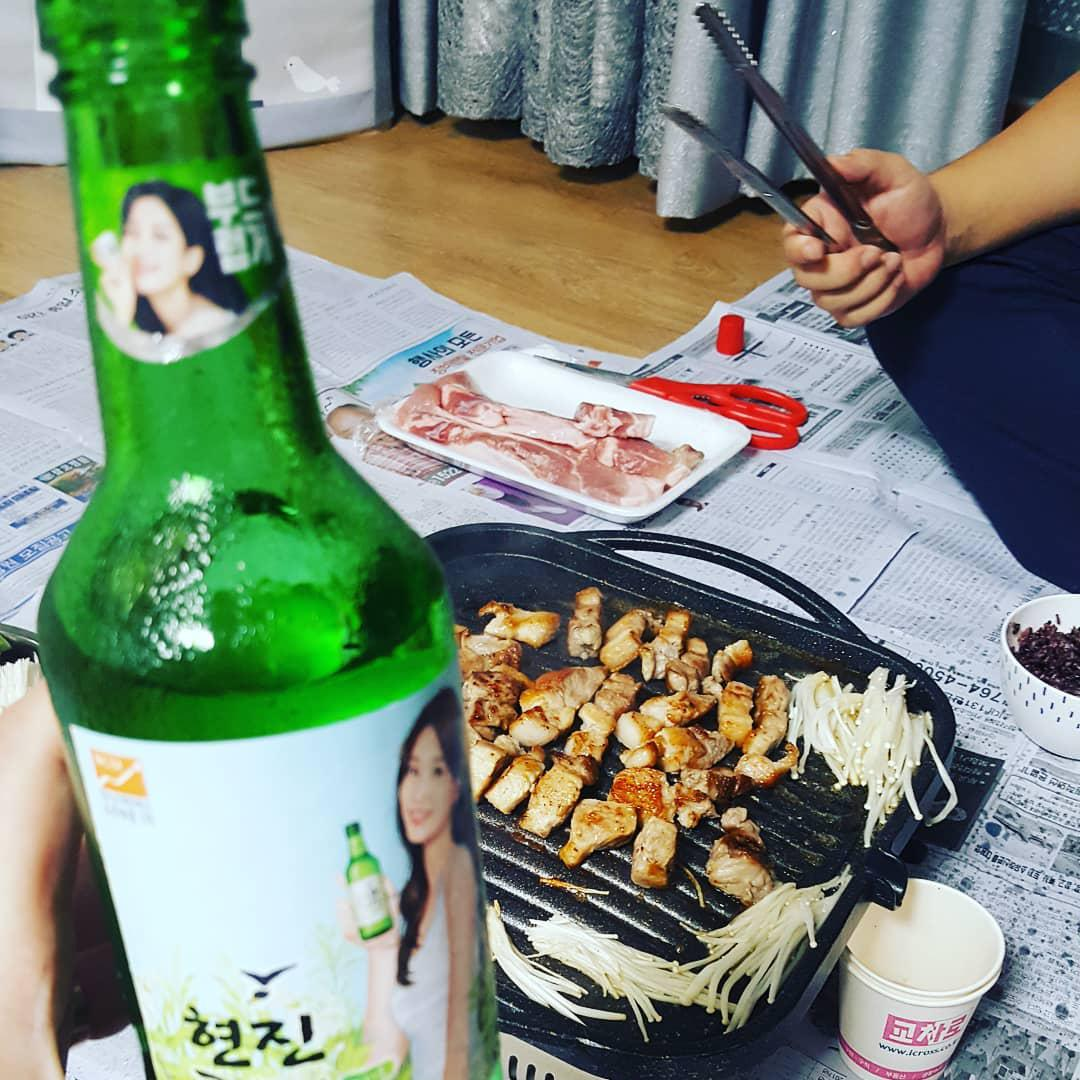soju: (19, 2, 520, 1078)
